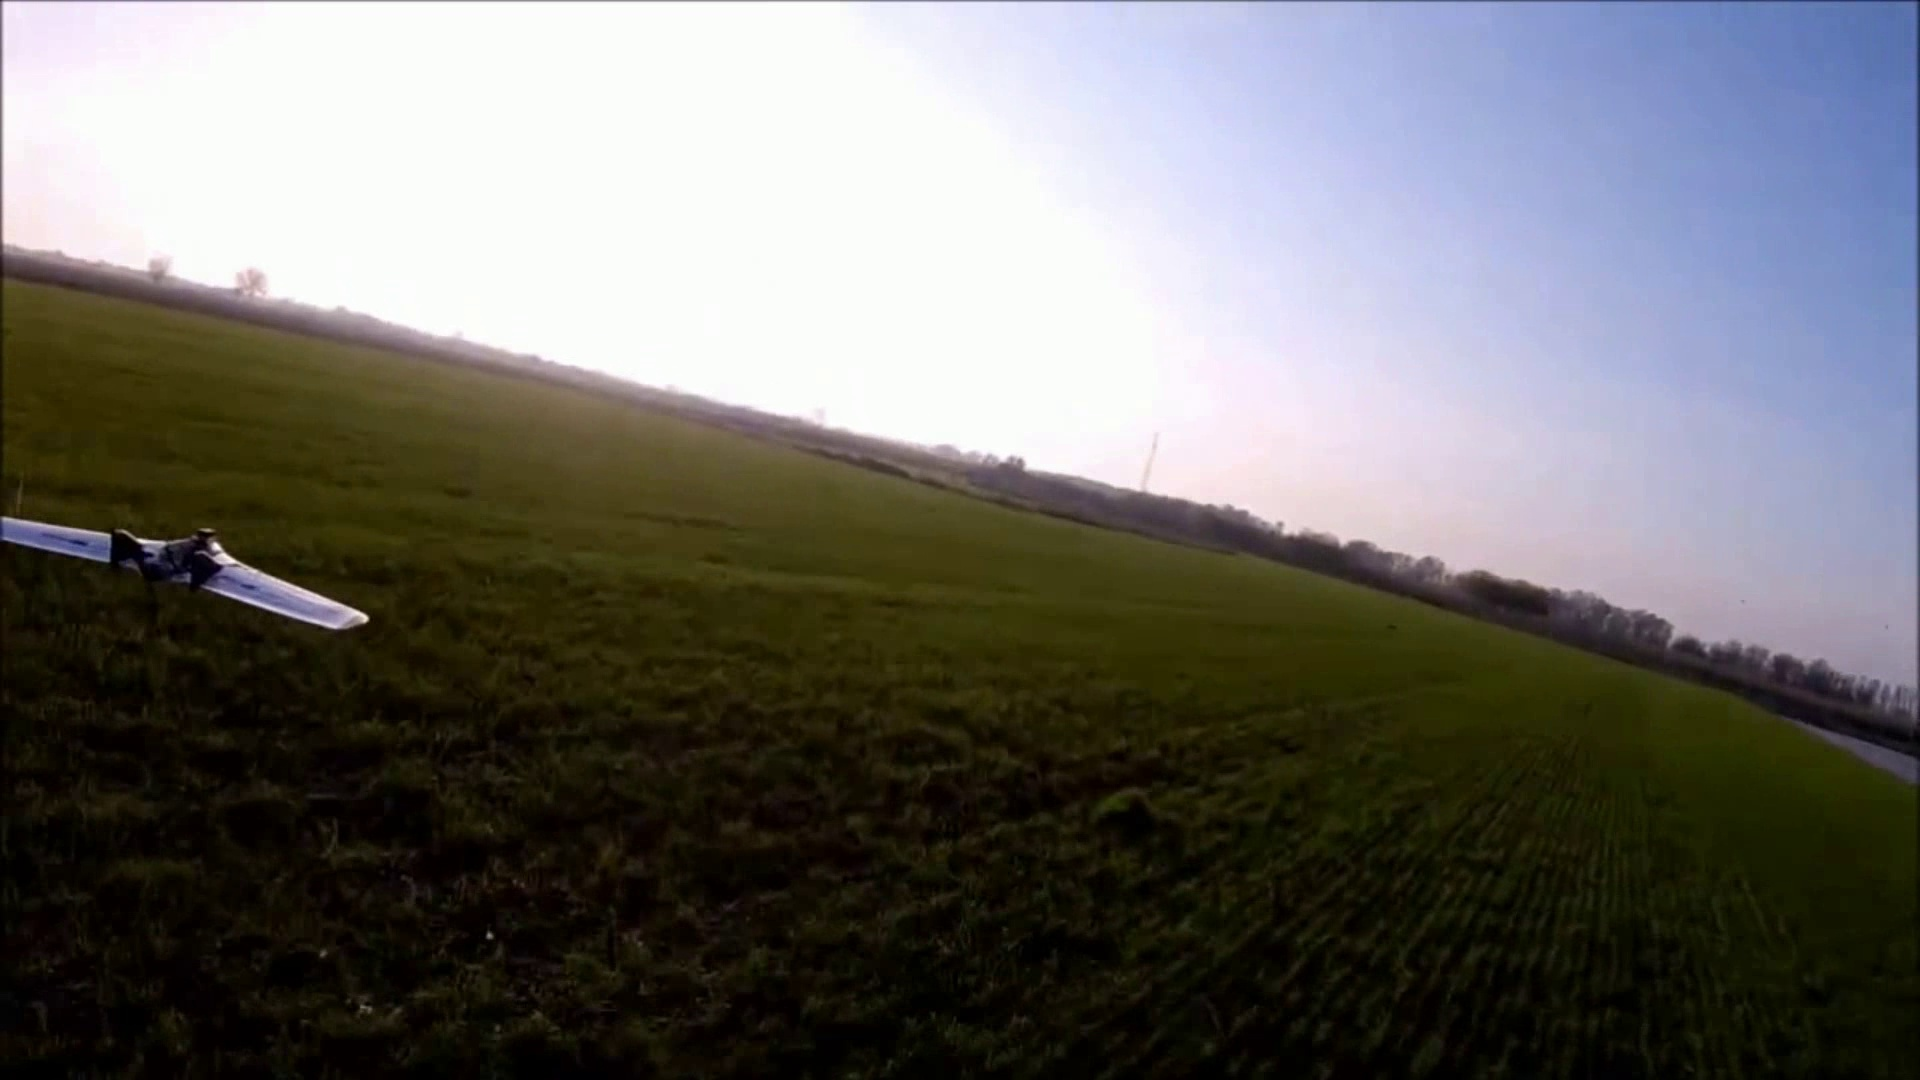airplane: (0, 516, 369, 636)
